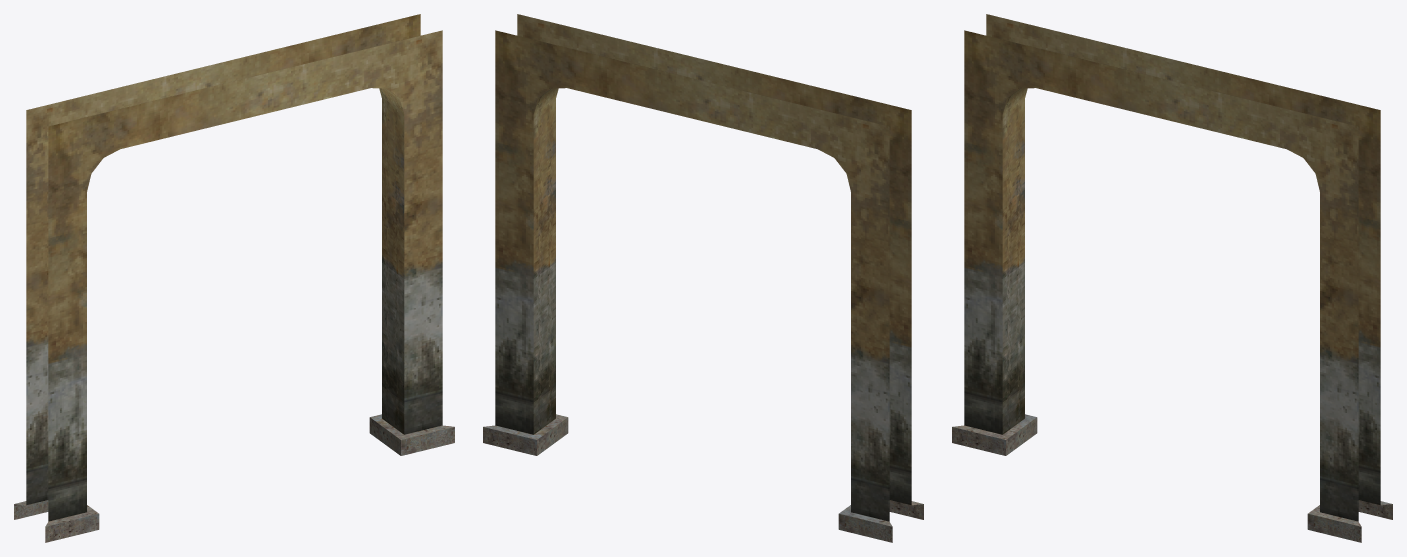
The model's file is _Archway_1.FBX.
3 renders of one model, left to right at view 1: azimuth 30°, elevation 25°; view 2: azimuth 150°, elevation 25°; view 3: azimuth 330°, elevation 25°, orthographic.
Visible parts, largest first — view 1: _Archway_1; view 2: _Archway_1; view 3: _Archway_1.
Part boxes in pixels (bbox=[...]): _Archway_1: bbox=[14, 14, 454, 542]; _Archway_1: bbox=[483, 14, 923, 542]; _Archway_1: bbox=[952, 14, 1392, 542].
Bounding box in the file's own units: 266 × 255 × 35.
2 materials, 2 textured.
